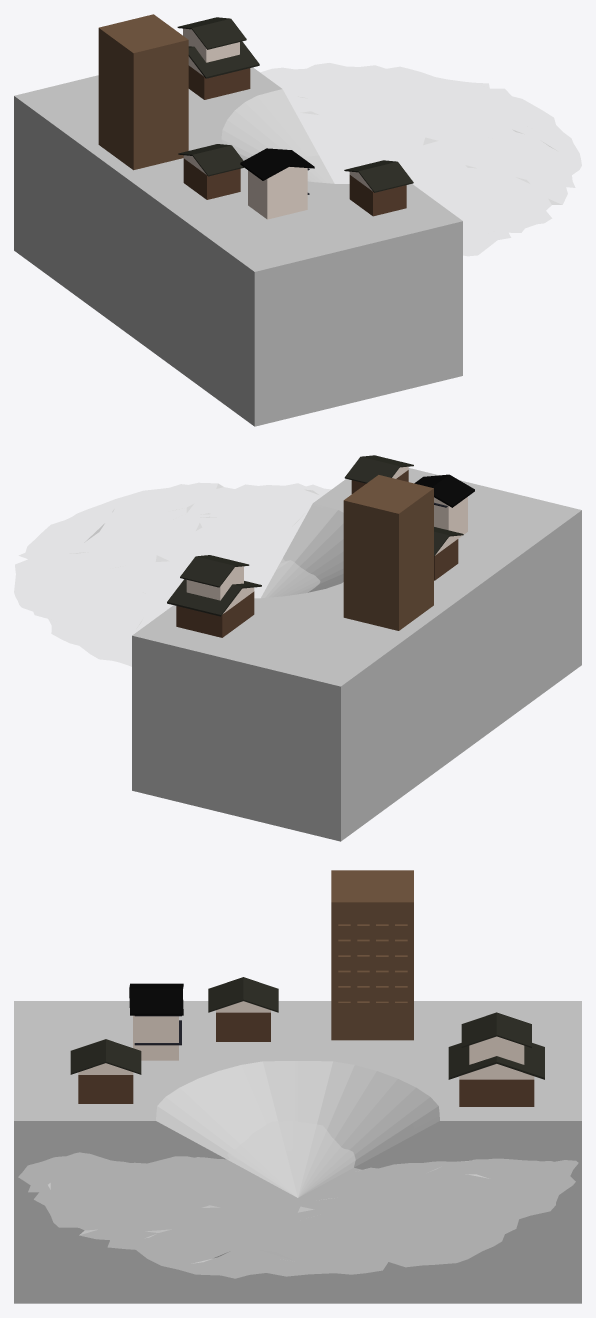
Rendered from asset.gltf.
3 renders of one model, top to bottom at view 1: azimuth 30°, elevation 25°; view 2: azimuth 150°, elevation 25°; view 3: azimuth 270°, elevation 25°, orthographic. The views are drawn at different scales.
Visible parts, largest first — view 1: 土台, 海 簡易版, 立方体.037, 立方体.044, 立方体.039, 立方体.068, 立方体.058, 立方体.050, 立方体.040, 立方体.069, 立方体.059, 立方体.041; view 2: 土台, 海 簡易版, 立方体.037, 立方体.044, 立方体.058, 立方体.059, 立方体.050, 立方体.040, 立方体.041, 立方体.068; view 3: 土台, 海 簡易版, 立方体.037, 立方体.044, 立方体.058, 立方体.039, 立方体.068, 立方体.059, 立方体.040, 立方体.050, 立方体.069, 立方体.041.
Part boxes in pixels (bbox=[...]): 土台: bbox=[14, 67, 462, 426]; 海 簡易版: bbox=[260, 63, 581, 256]; 立方体.037: bbox=[98, 14, 188, 170]; 立方体.044: bbox=[240, 148, 314, 219]; 立方体.039: bbox=[349, 171, 406, 216]; 立方体.068: bbox=[183, 155, 240, 199]; 立方体.058: bbox=[188, 56, 250, 99]; 立方体.050: bbox=[177, 17, 246, 49]; 立方体.040: bbox=[344, 160, 413, 192]; 立方体.069: bbox=[178, 144, 243, 176]; 立方体.059: bbox=[188, 41, 259, 78]; 立方体.041: bbox=[183, 28, 239, 62]; 土台: bbox=[132, 468, 581, 841]; 海 簡易版: bbox=[14, 482, 331, 666]; 立方体.037: bbox=[343, 475, 433, 630]; 立方体.044: bbox=[414, 474, 474, 538]; 立方体.058: bbox=[176, 587, 254, 637]; 立方体.059: bbox=[167, 579, 261, 616]; 立方体.050: bbox=[180, 555, 249, 587]; 立方体.040: bbox=[344, 455, 413, 483]; 立方体.041: bbox=[186, 566, 243, 600]; 立方体.068: bbox=[434, 535, 458, 580]; 土台: bbox=[14, 1001, 581, 1303]; 海 簡易版: bbox=[18, 1121, 578, 1278]; 立方体.037: bbox=[331, 870, 413, 1040]; 立方体.044: bbox=[129, 983, 183, 1060]; 立方体.058: bbox=[459, 1064, 534, 1106]; 立方体.039: bbox=[78, 1063, 133, 1103]; 立方体.068: bbox=[216, 1001, 270, 1041]; 立方体.059: bbox=[448, 1043, 544, 1079]; 立方体.040: bbox=[70, 1039, 141, 1074]; 立方体.050: bbox=[461, 1012, 531, 1047]; 立方体.069: bbox=[208, 977, 278, 1012]; 立方体.041: bbox=[469, 1036, 524, 1064].
Size of the model in its own units: 9.95 by 6.23 by 10.
